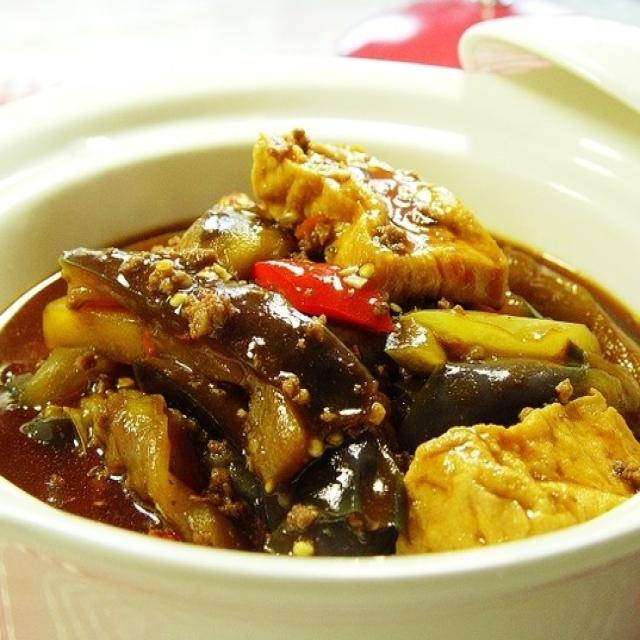鸡蛋料理: (12, 63, 620, 592)
